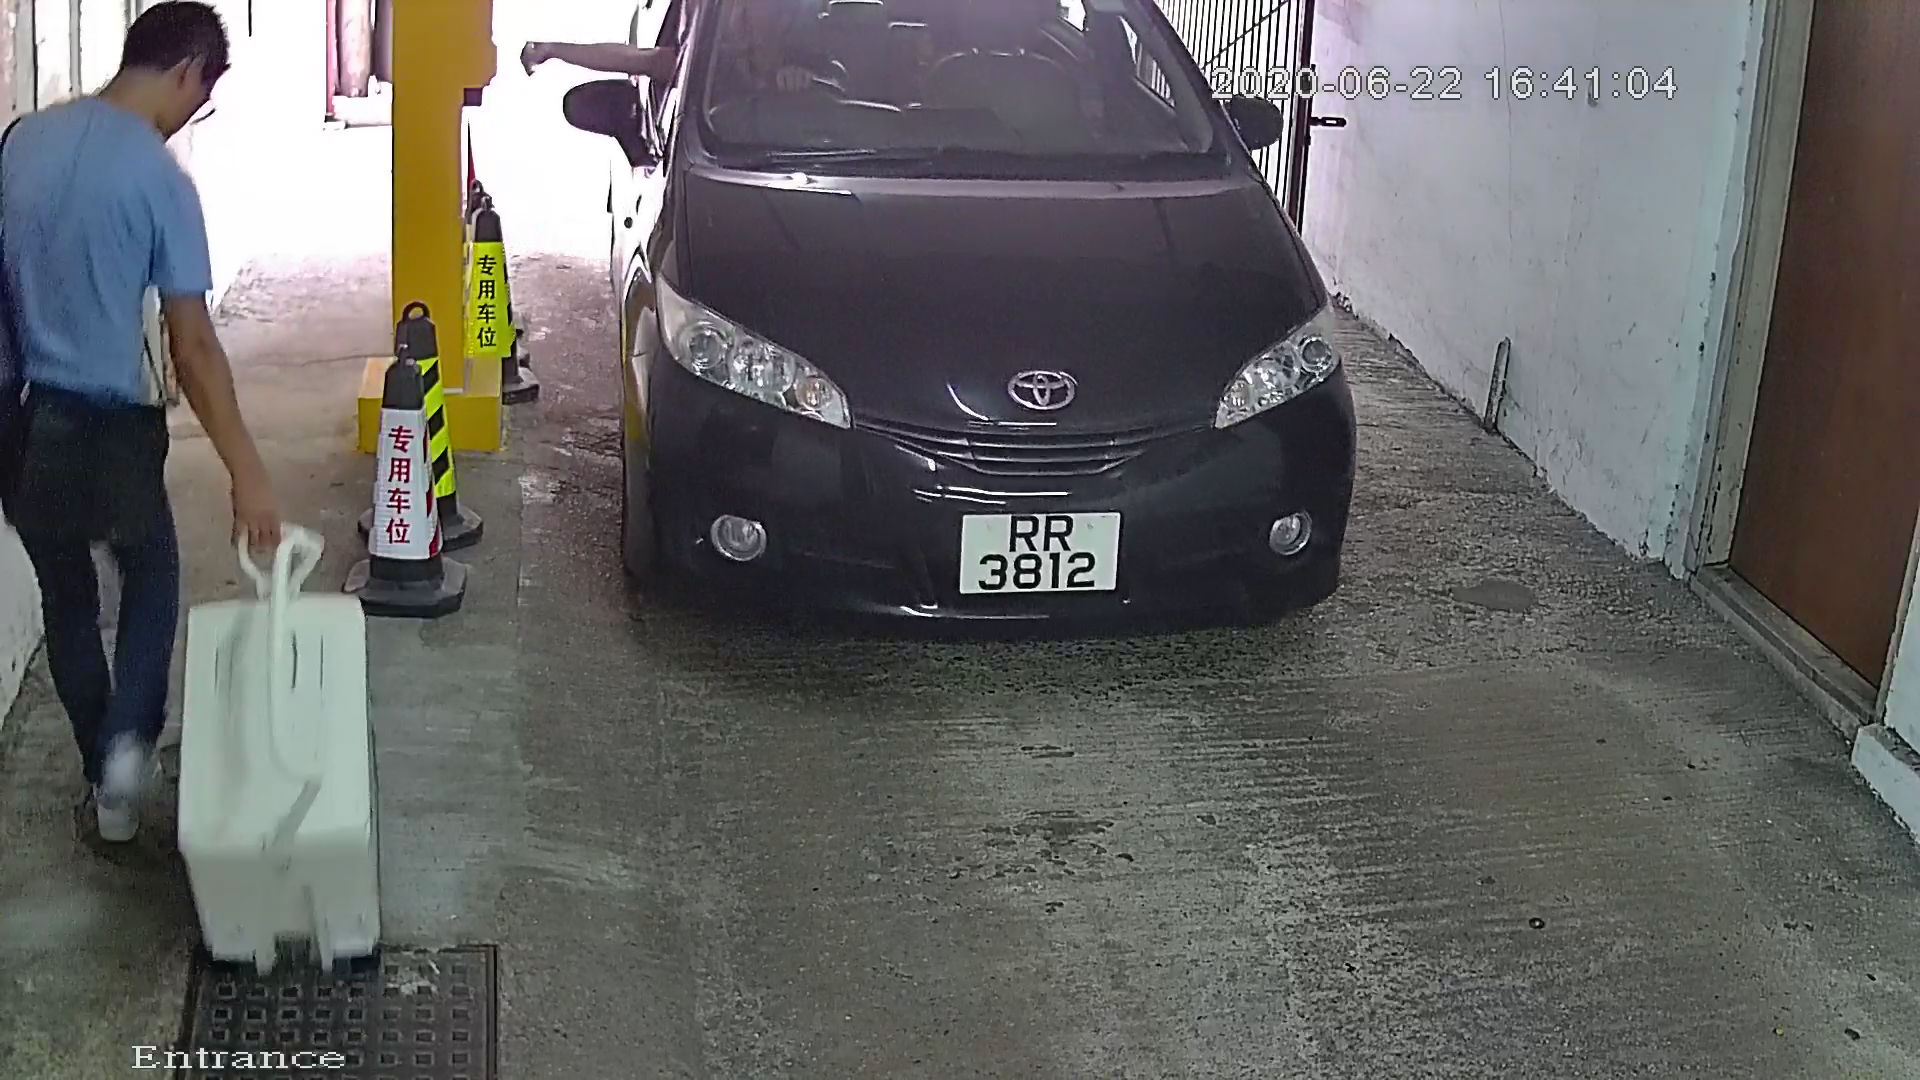privatecar: (549, 1, 1435, 744)
